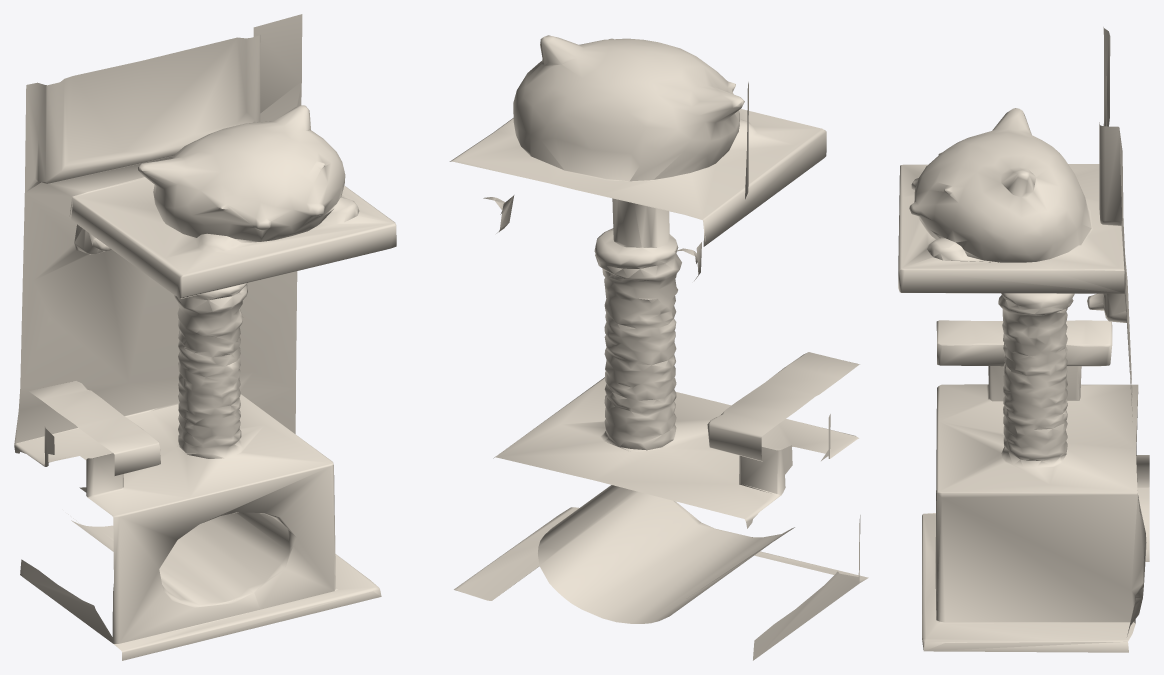
Rendered from show_cat_tree.glb.
3 views of the same model, side by side, from view 1: azimuth 30°, elevation 25°; view 2: azimuth 150°, elevation 25°; view 3: azimuth 270°, elevation 25° (orthographic). The views are drawn at different scales.
Size of the model in its own units: 1.1 by 1.9 by 0.85.
